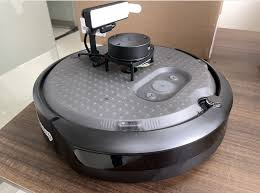turtlebot: (29, 11, 244, 177)
